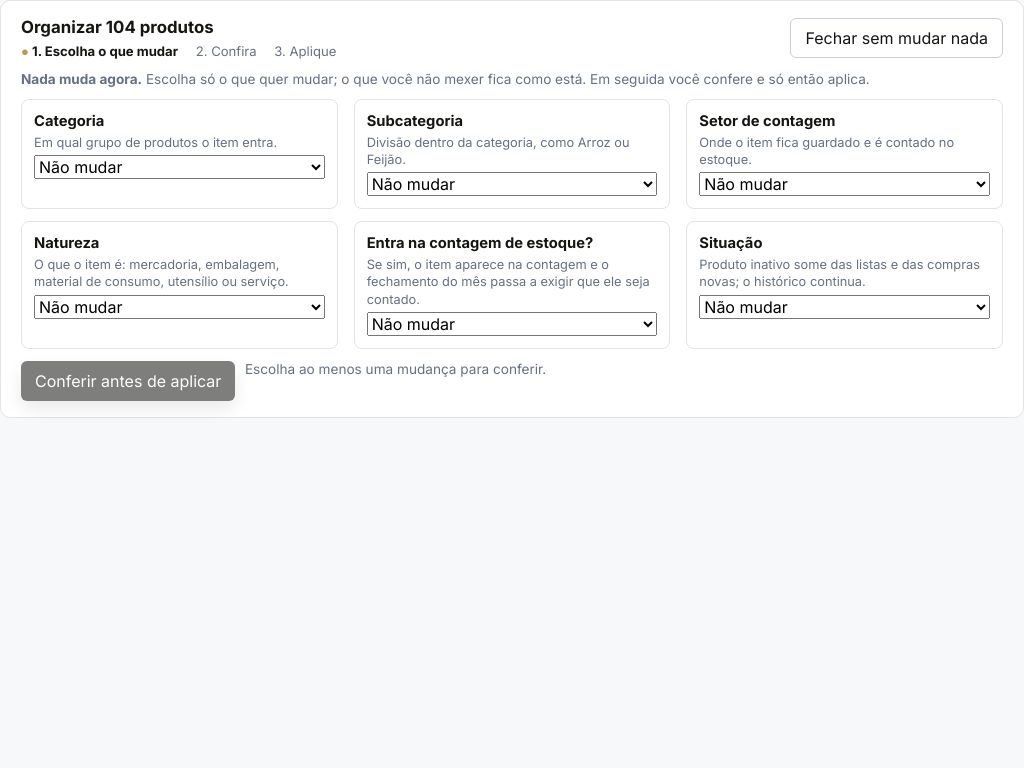
LoteDeProdutos: passo 1, escolher › trocar a categoria avisa que a subcategoria atual será apagada
Step 1. Select "DOCES" in the dropdown labelled "Categoria" → (179, 167), box [34,155,325,179]
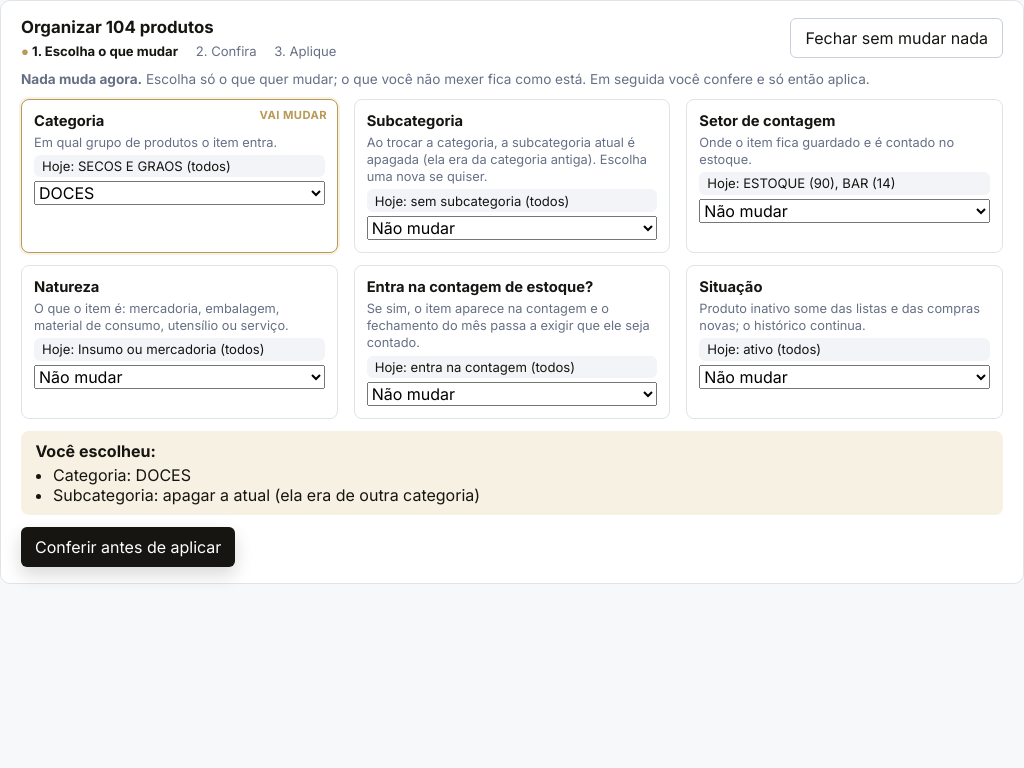
Check: the text "a subcategoria atual é apagada" is shown, box [367,135,647,184]
Check: the list item "Subcategoria: apagar a atual (ela era de outra categoria)" is shown, box [53,485,480,505]
